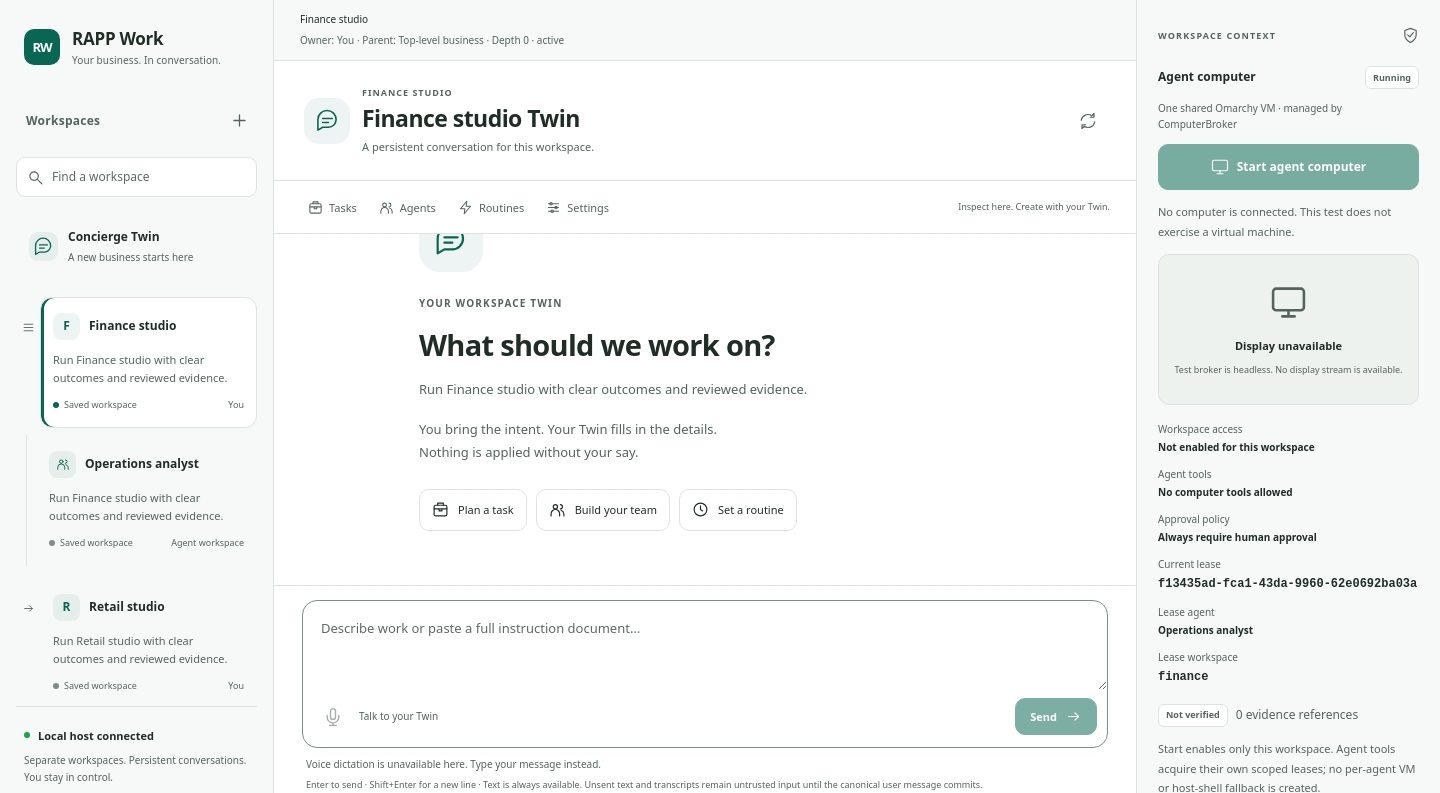
Scenario: one shared agent computer with workspace-scoped activation and leases › shows only the selected workspace's active lease and never exposes a sibling's lease identifiers
This screenshot has width=1440, height=793.
(page scrolled)
Expected: the heading "Finance studio Twin" is shown, [362,103,594,134]
Expected: the text "Operations analyst" below "Lease agent" is shown, [1158,623,1253,637]
Click the button named "Open workspace Retail studio".
click(148, 644)  # box [40,578,257,709]
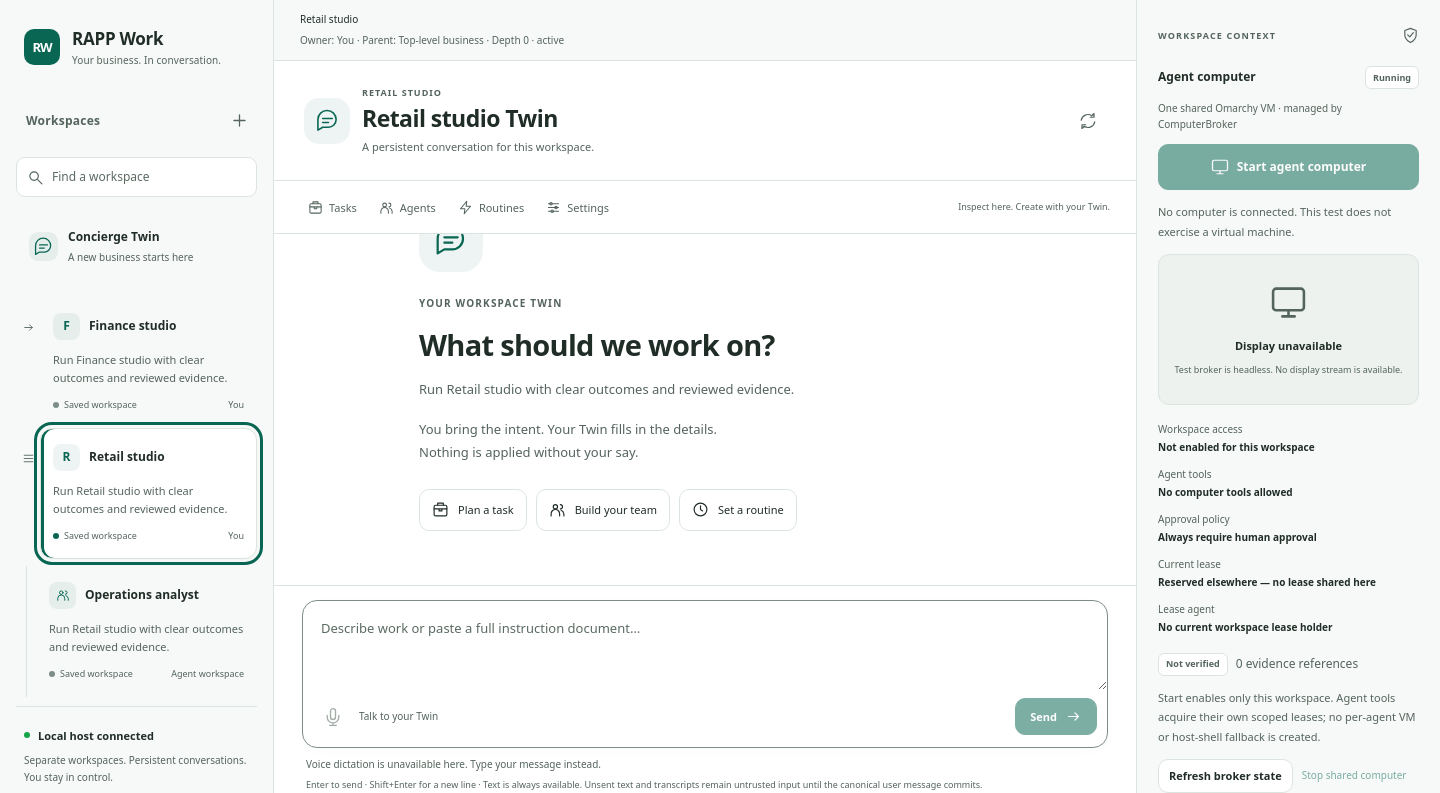
Expected: the button "Start agent computer" is disabled, [1158,144,1419,190]
Result: the heading "Retail studio Twin" is shown at [362,102,558,134]
Result: the text "Reserved elsewhere — no lease shared here" is shown at [1158,575,1376,589]
